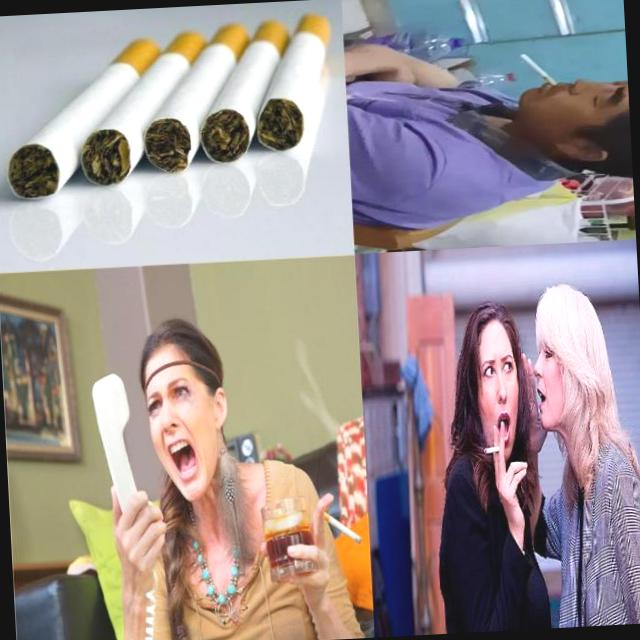smoke: (0, 38, 168, 201), (75, 29, 216, 188), (138, 22, 258, 176), (195, 18, 298, 166), (251, 12, 337, 154), (319, 505, 362, 546), (520, 52, 558, 88), (484, 444, 502, 456)
